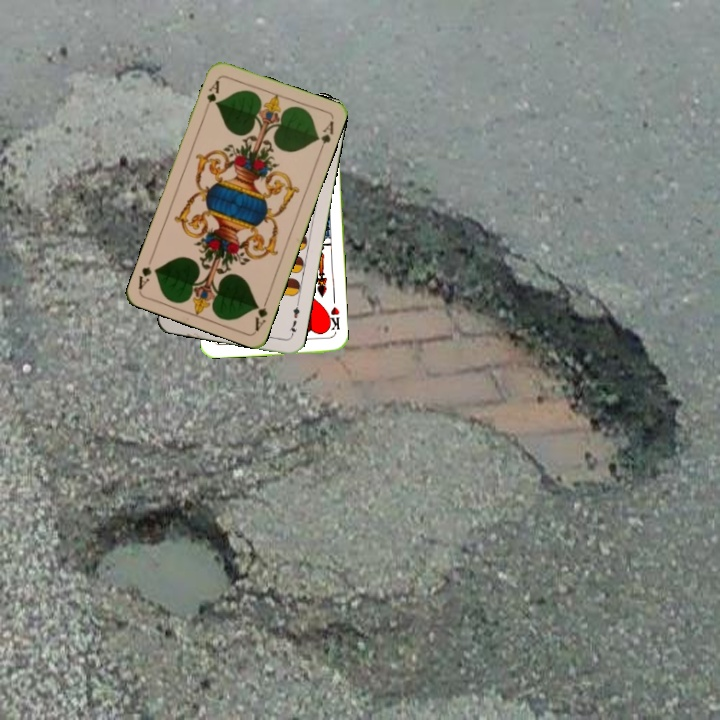E7: (285, 299, 302, 339)
GA: (250, 293, 271, 333), (203, 76, 222, 106)
HK: (323, 303, 342, 333)
